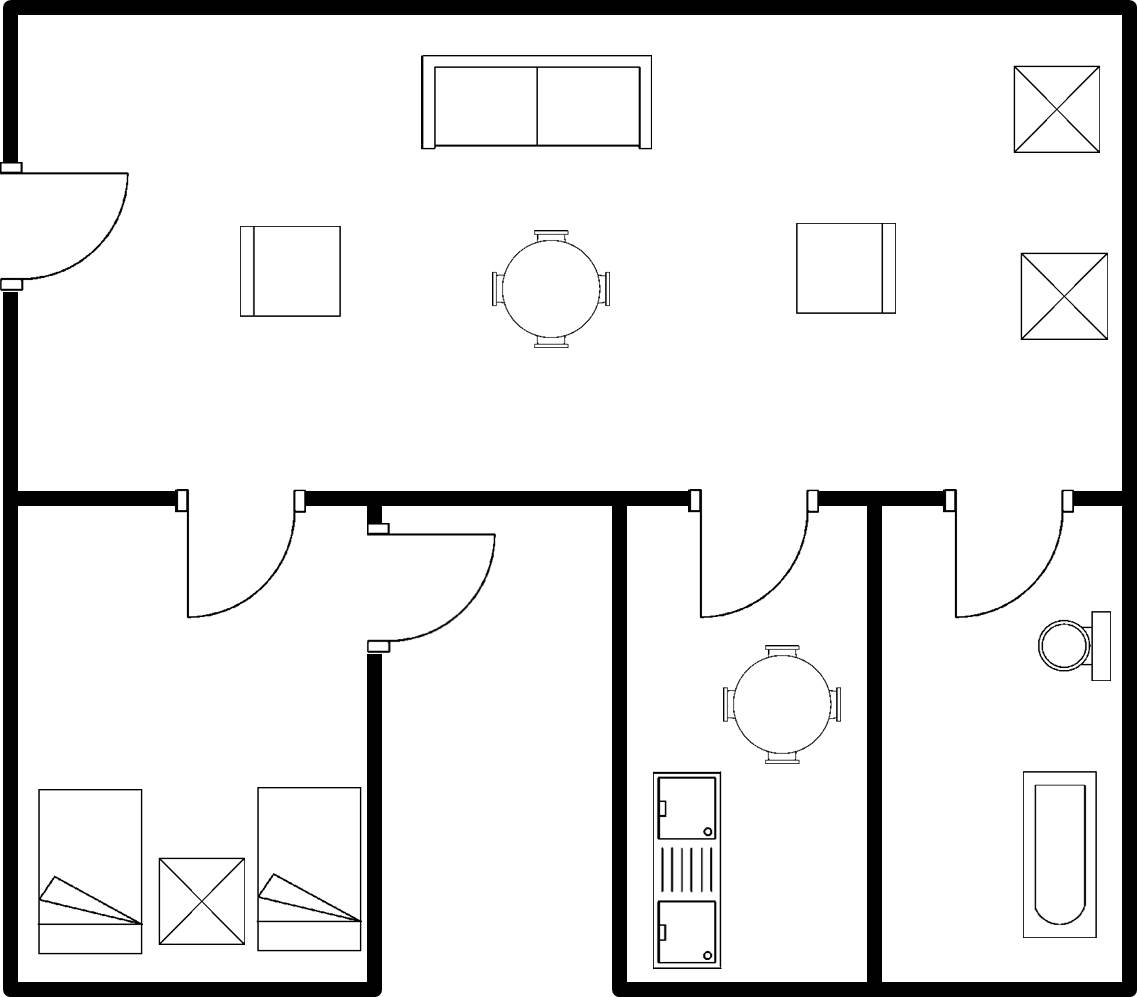bed: (29, 779, 152, 964), (249, 779, 368, 963)
coffee_table: (1012, 245, 1117, 349), (1006, 55, 1109, 161), (152, 851, 251, 953)
large_sink: (1029, 601, 1118, 696)
large_sofa: (413, 50, 657, 158)
round_table: (713, 636, 857, 772), (485, 224, 617, 355)
small_sofa: (788, 214, 905, 325), (232, 218, 354, 321)
tub: (1014, 765, 1102, 946)
twin_sink: (648, 765, 732, 976)
